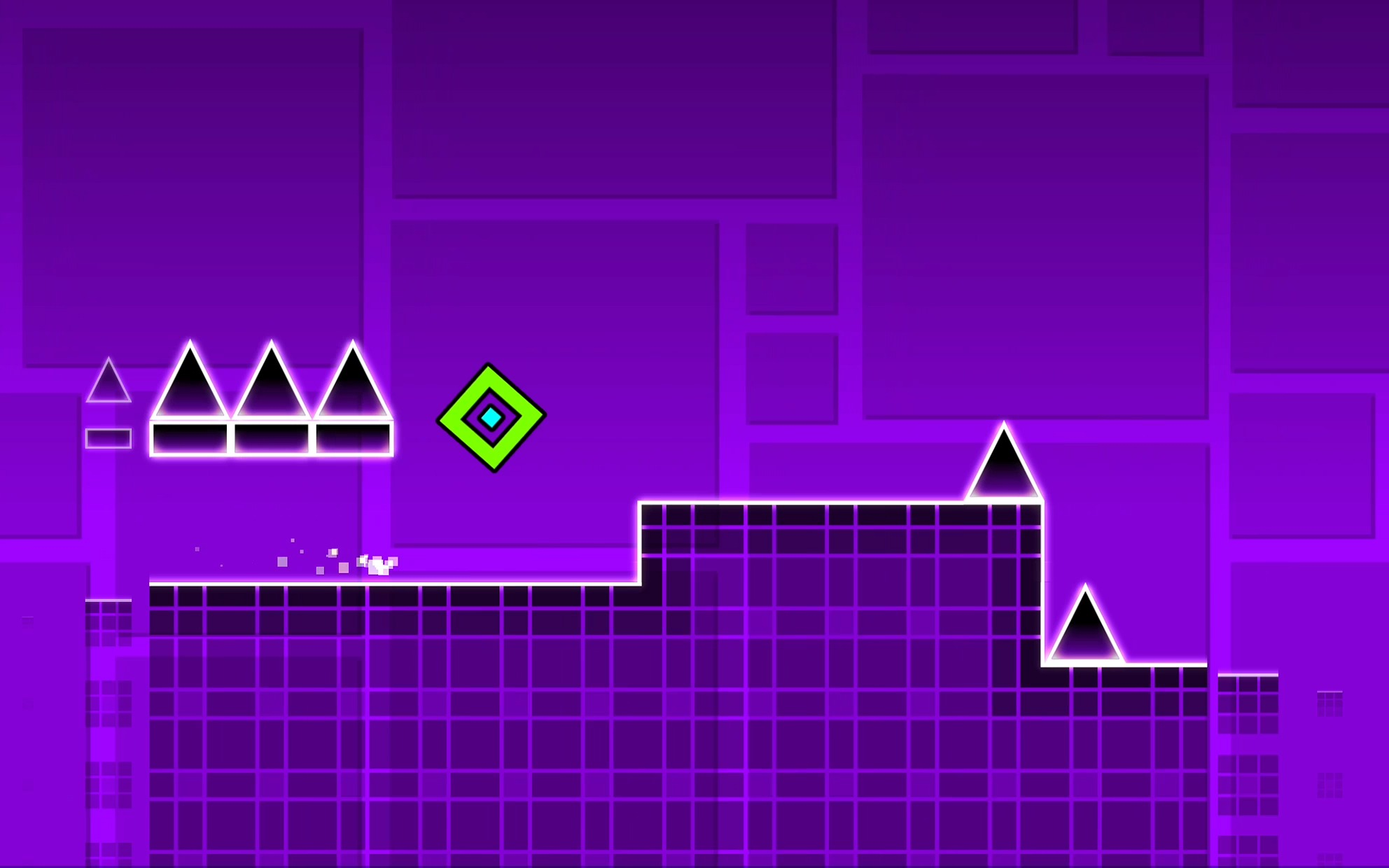Block2: (84, 587, 634, 868), (637, 501, 1042, 868), (1046, 660, 1286, 868)
Block3: (148, 421, 230, 456), (231, 420, 308, 452), (317, 424, 386, 457)
Player: (436, 363, 545, 470)
Spike: (1047, 585, 1126, 664), (964, 422, 1042, 500), (314, 341, 391, 418), (152, 340, 226, 419), (234, 340, 308, 416), (85, 358, 130, 400)
